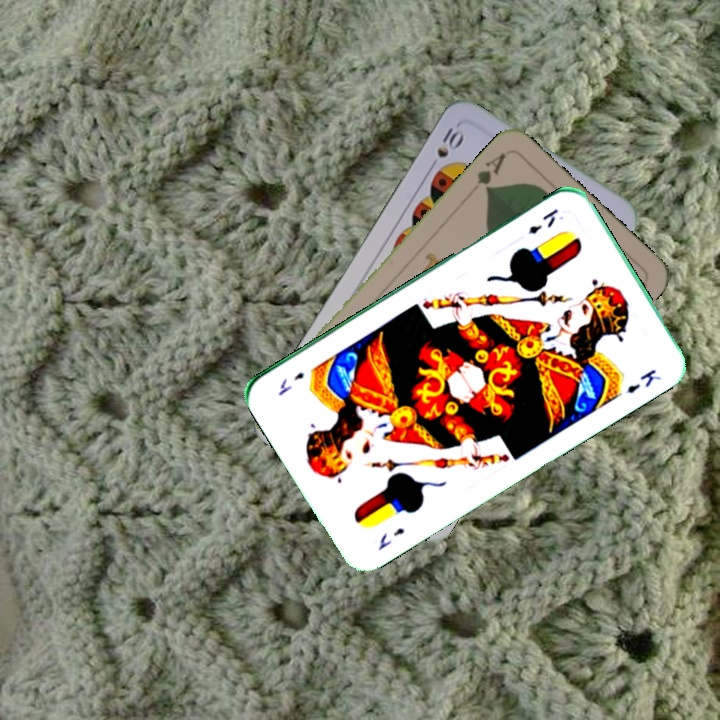EK: (524, 204, 561, 237), (373, 523, 407, 553)
GA: (466, 149, 509, 197)
S10: (424, 120, 466, 174)
